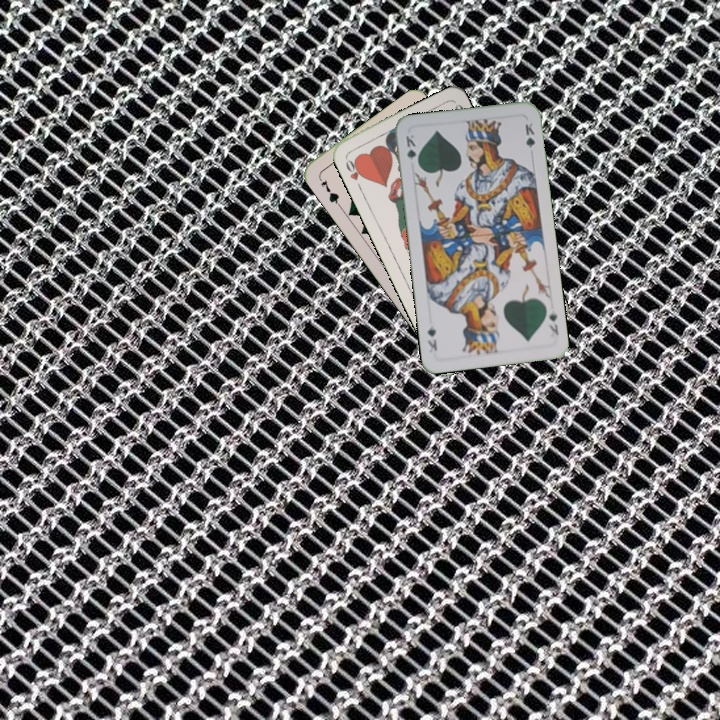G7: (315, 173, 343, 209)
GK: (402, 130, 421, 169), (544, 306, 561, 337)
HO: (341, 153, 367, 192)
